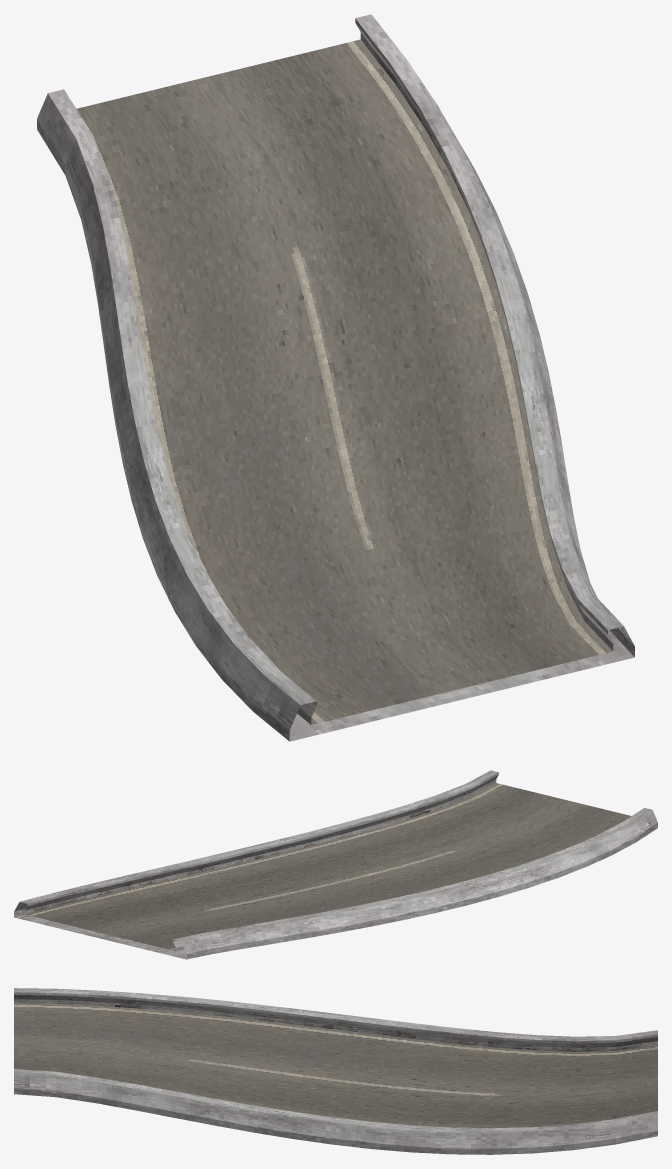
The model's file is road-Chicane-Flat-BiSlopeUp-Up1-Right1-Size3.glb.
3 views of the same model, one above another, from view 1: azimuth 30°, elevation 25°; view 2: azimuth 150°, elevation 25°; view 3: azimuth 270°, elevation 25° (orthographic). The views are drawn at different scales.
Visible parts, largest first — view 1: road-Chicane-Flat-BiSlopeUp-Up1-Right1-Size3; view 2: road-Chicane-Flat-BiSlopeUp-Up1-Right1-Size3; view 3: road-Chicane-Flat-BiSlopeUp-Up1-Right1-Size3.
Part boxes in pixels (bbox=[...]): road-Chicane-Flat-BiSlopeUp-Up1-Right1-Size3: bbox=[37, 14, 634, 741]; road-Chicane-Flat-BiSlopeUp-Up1-Right1-Size3: bbox=[14, 770, 657, 959]; road-Chicane-Flat-BiSlopeUp-Up1-Right1-Size3: bbox=[14, 988, 657, 1154].
Size of the model in its own units: 2 by 0.3476 by 3.
2 materials, 2 textured.
